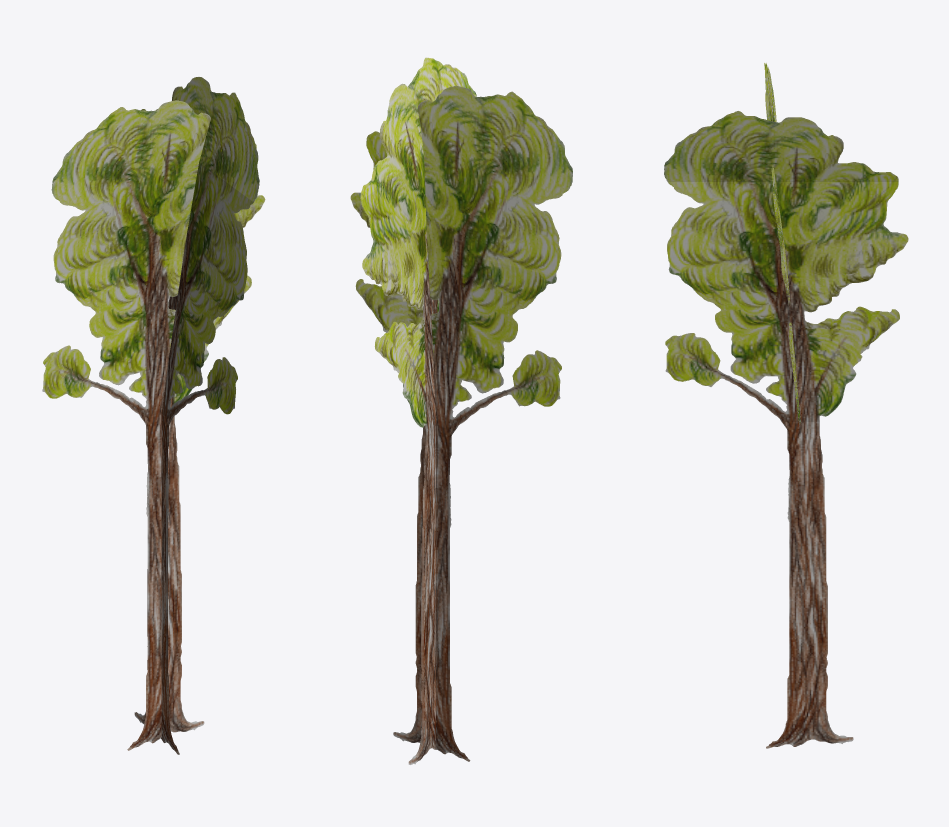
The model's file is Tree2.fbx.
3 views of the same model, side by side, from view 1: azimuth 30°, elevation 25°; view 2: azimuth 150°, elevation 25°; view 3: azimuth 270°, elevation 25° (orthographic).
Parts seen in each view (by area): view 1: Tree2; view 2: Tree2; view 3: Tree2.
Boxes of the visible parts, box(x1,y1,x2,y2) form: Tree2: box(42, 77, 265, 754); Tree2: box(350, 57, 572, 764); Tree2: box(664, 63, 908, 748).
Bounding box in the file's own units: 899 × 2235 × 918.
Materials: 1 (1 with a texture image).
